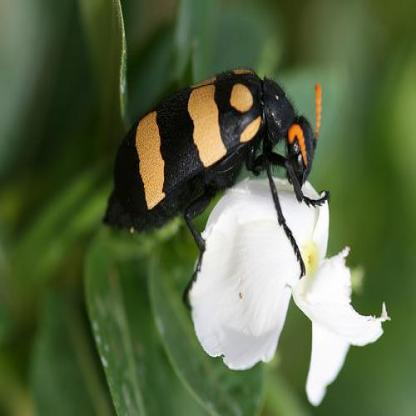beetle: (99, 58, 322, 249)
